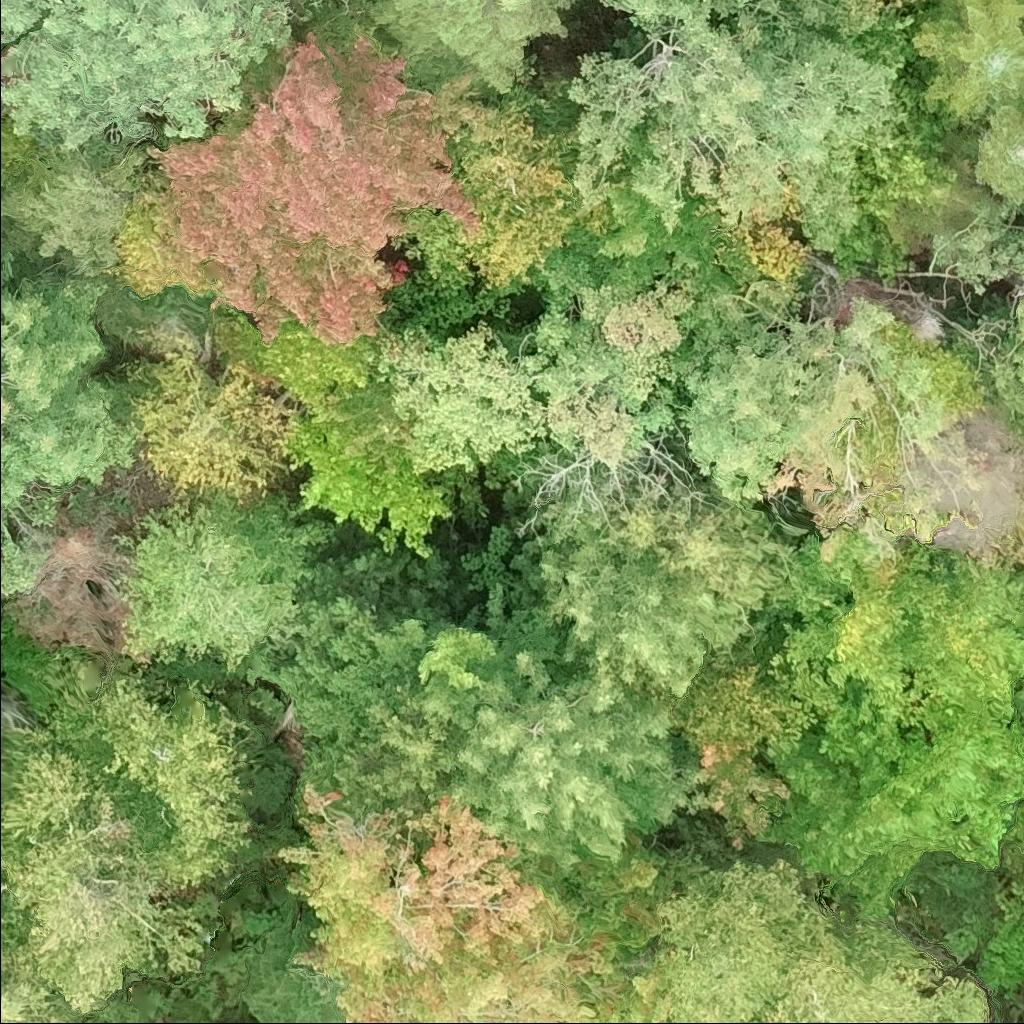crown: (119, 32, 490, 347), (279, 784, 660, 1023), (569, 11, 892, 240), (745, 515, 1023, 772), (646, 857, 989, 1023), (448, 657, 702, 881), (0, 739, 206, 1007), (702, 727, 952, 925), (0, 253, 139, 604), (0, 0, 302, 149), (535, 508, 747, 703), (251, 594, 503, 751), (123, 488, 329, 670), (86, 683, 253, 893), (685, 325, 873, 502), (405, 102, 577, 291), (531, 279, 695, 462), (290, 384, 453, 561), (377, 331, 549, 478), (136, 352, 300, 498), (890, 716, 1023, 873), (312, 700, 466, 824), (2, 146, 151, 270), (375, 0, 584, 87), (0, 517, 129, 651), (236, 310, 381, 416), (780, 0, 932, 85), (920, 0, 1023, 125), (856, 88, 951, 209), (685, 652, 799, 743), (612, 0, 789, 38), (0, 966, 93, 1023), (977, 108, 1023, 199), (0, 894, 35, 980)
